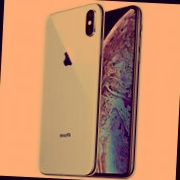samsung: (24, 11, 101, 169)
